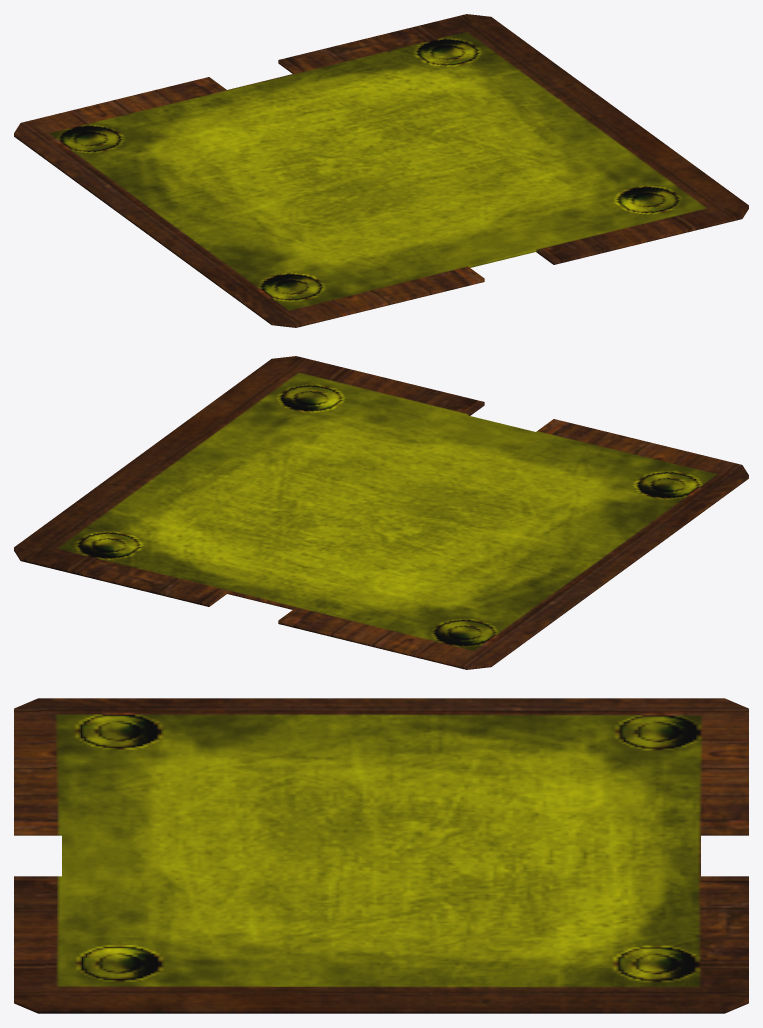
The model's file is Chest_Lid.fbx.
3 renders of one model, top to bottom at view 1: azimuth 30°, elevation 25°; view 2: azimuth 150°, elevation 25°; view 3: azimuth 270°, elevation 25°, orthographic. The views are drawn at different scales.
Parts seen in each view (by area): view 1: Chest_Lid; view 2: Chest_Lid; view 3: Chest_Lid.
Boxes of the visible parts, x1,y1,x2,y2 form: Chest_Lid: (14,14,748,327); Chest_Lid: (14,356,748,669); Chest_Lid: (14,698,748,1013).
Size of the model in its own units: 100 by 0.667 by 100.
